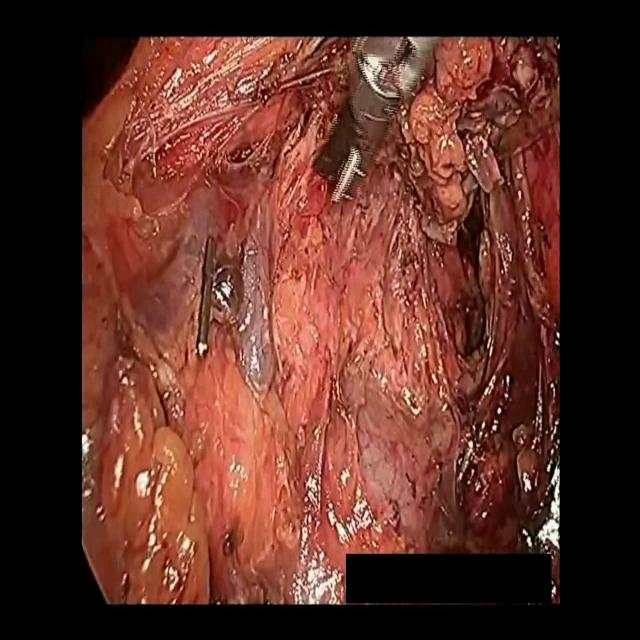surgical-area: (82, 36, 559, 604)
surgical-tool: (312, 36, 440, 204)
